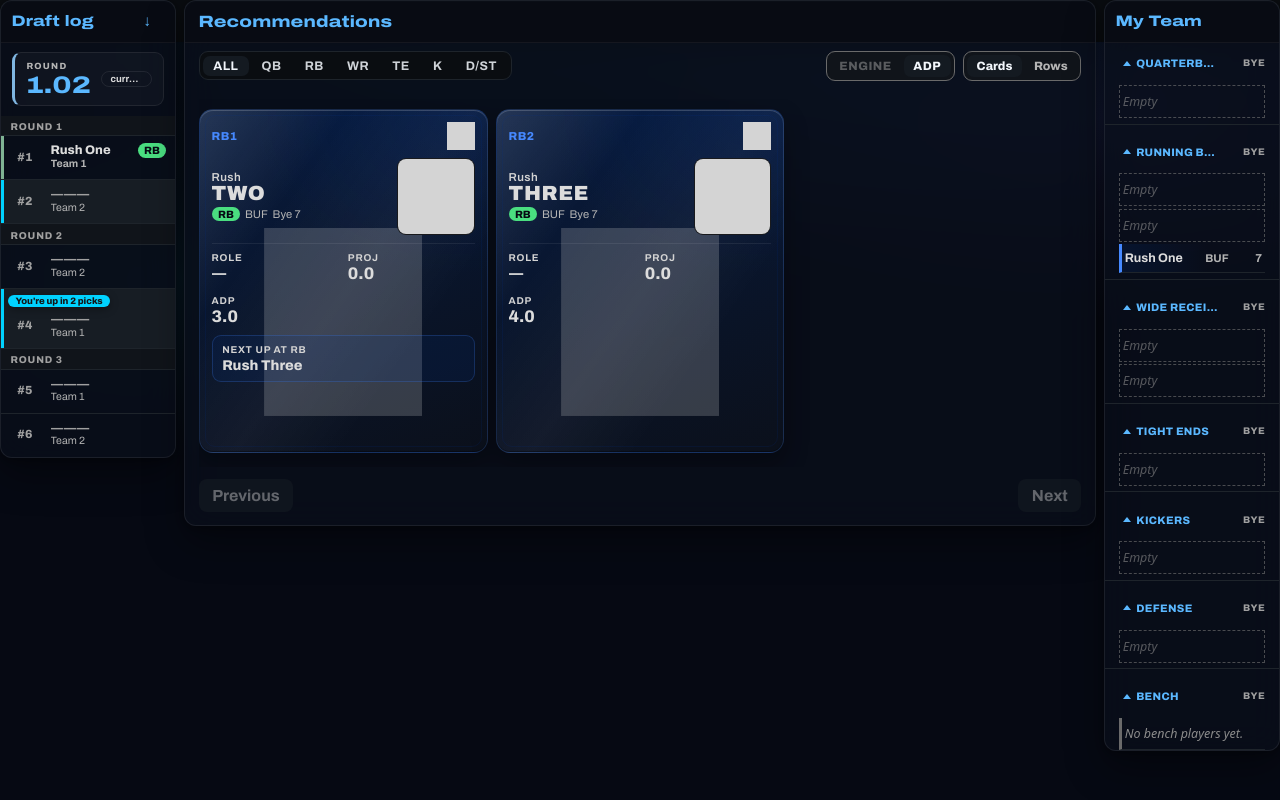
DraftWorkspace draft-log clock wiring › shows the ADP card board between turns without running the recommendation engine
The image size is (1280, 800).
Expected: the text "Two" is shown, [212,182,265,204]
Expected: the text "Three" is shown, [508,182,589,204]
Click the tab "K" at (438, 66), box [422,56,453,76]
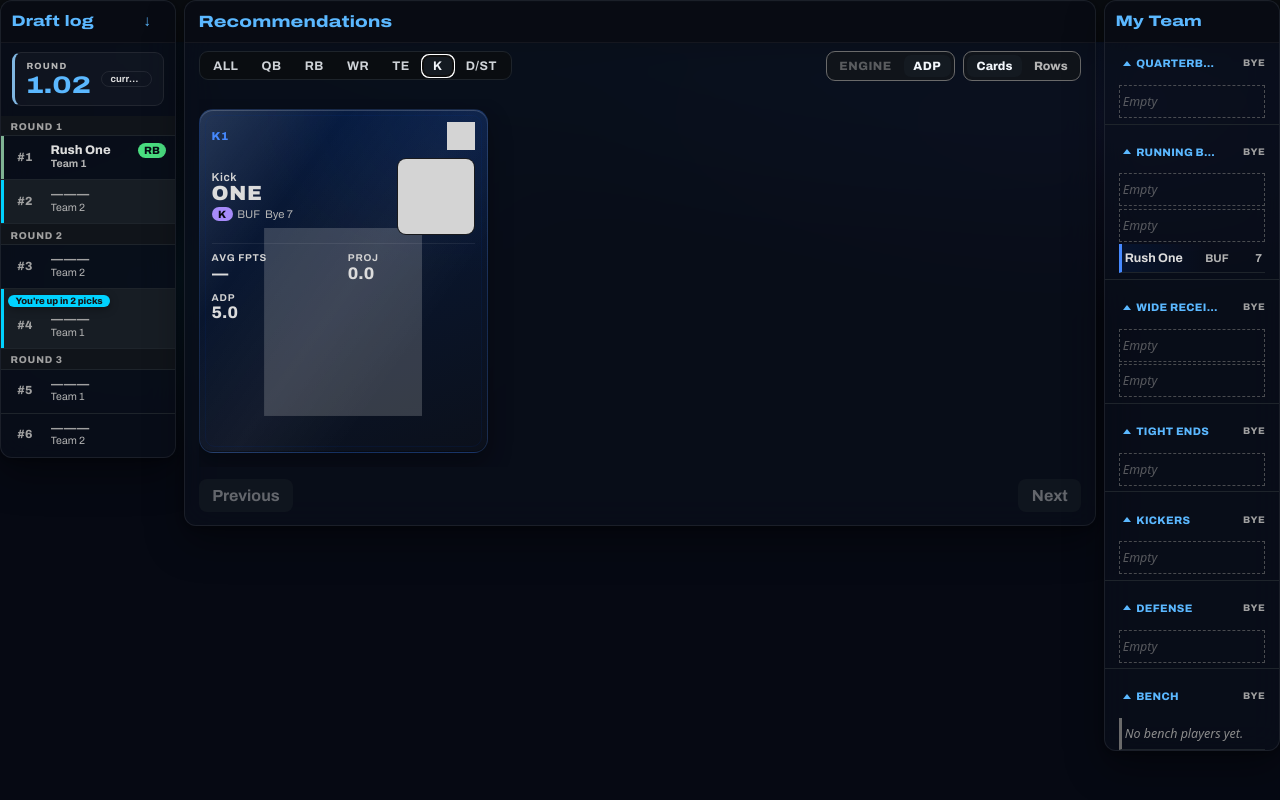
Expected: the text "Kick" is shown, [212,172,237,184]
